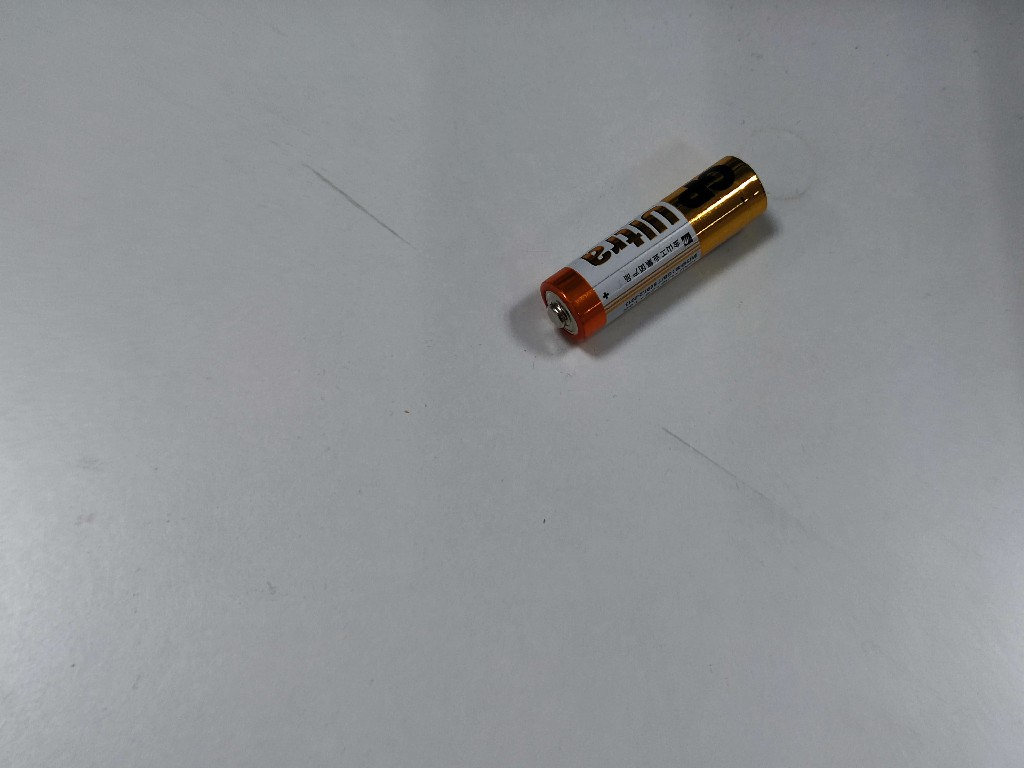charge: (540, 153, 770, 344)
